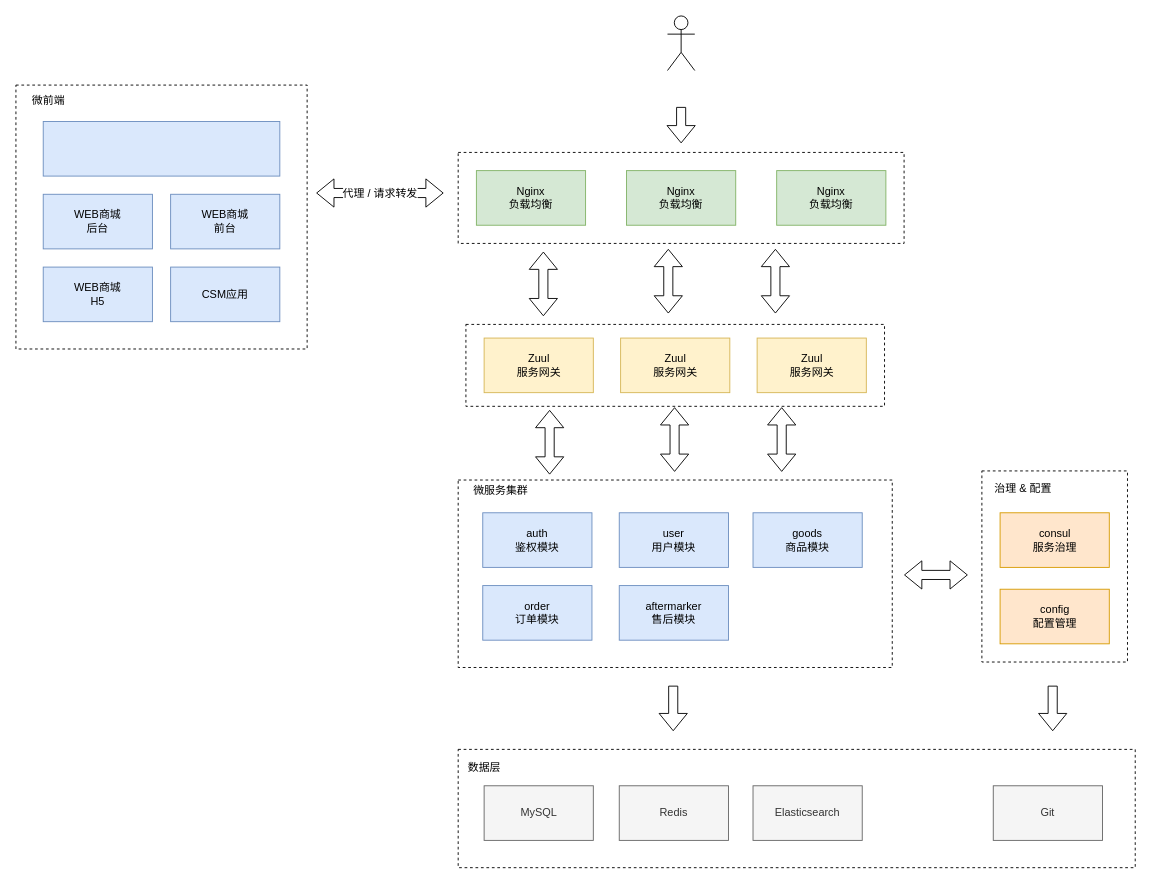
Image size: 1151x884. Some labels were removed from this diagram. The shapes that lost their labels are listed below. From the top down, each one's centre as x and y in pixels, then its label:
[681,43]: 用户
[161,148]: qiankun 基座
